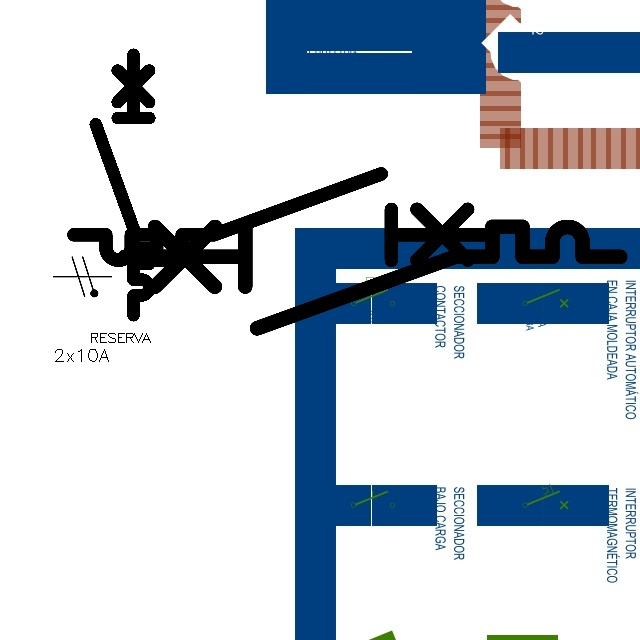interruptor_termomagnetico: (111, 214, 632, 341), (63, 163, 504, 271), (89, 48, 156, 322)
